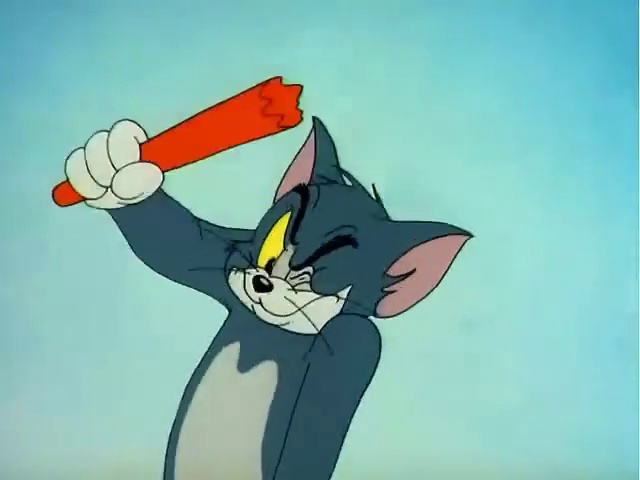tom: (34, 58, 465, 480)
